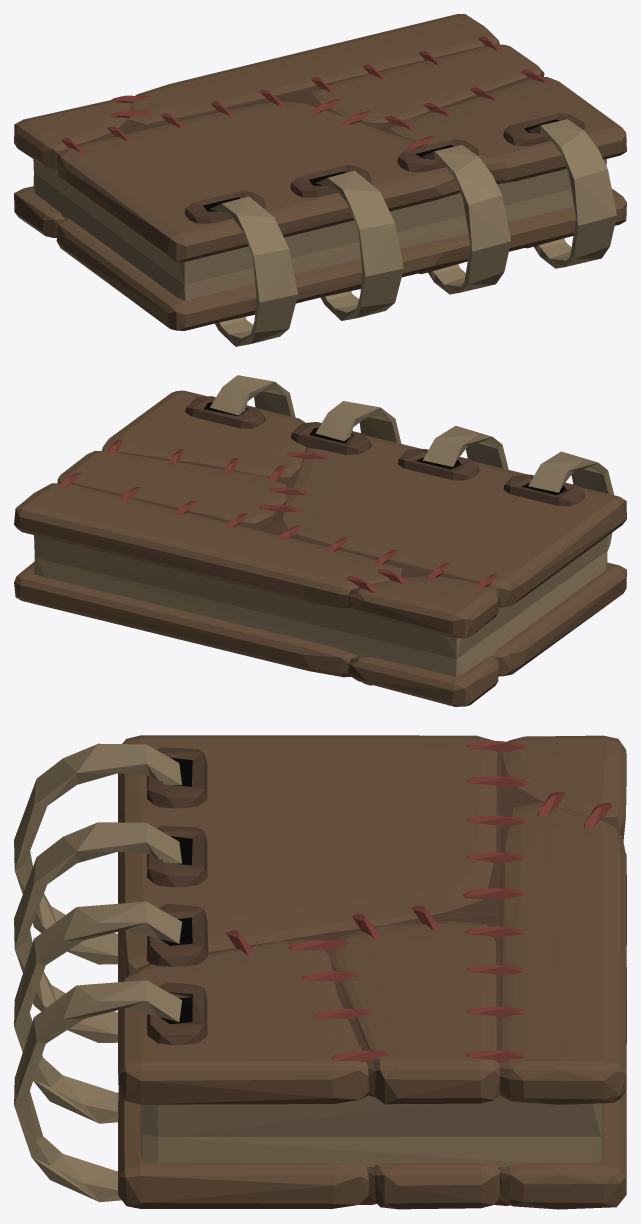
File: Closed_book.glb
The picture shows the model from 3 angles, top to bottom: view 1: azimuth 30°, elevation 25°; view 2: azimuth 150°, elevation 25°; view 3: azimuth 270°, elevation 25°; orthographic projection. The views are drawn at different scales.
Parts seen in each view (by area): view 1: book2; view 2: book2; view 3: book2.
Part boxes in pixels (x1,y1,x2,y2): book2: [14, 14, 626, 346]; book2: [14, 375, 626, 706]; book2: [14, 735, 626, 1209].
Bounding box in the file's own units: 0.3659 × 0.101 × 0.2792.
